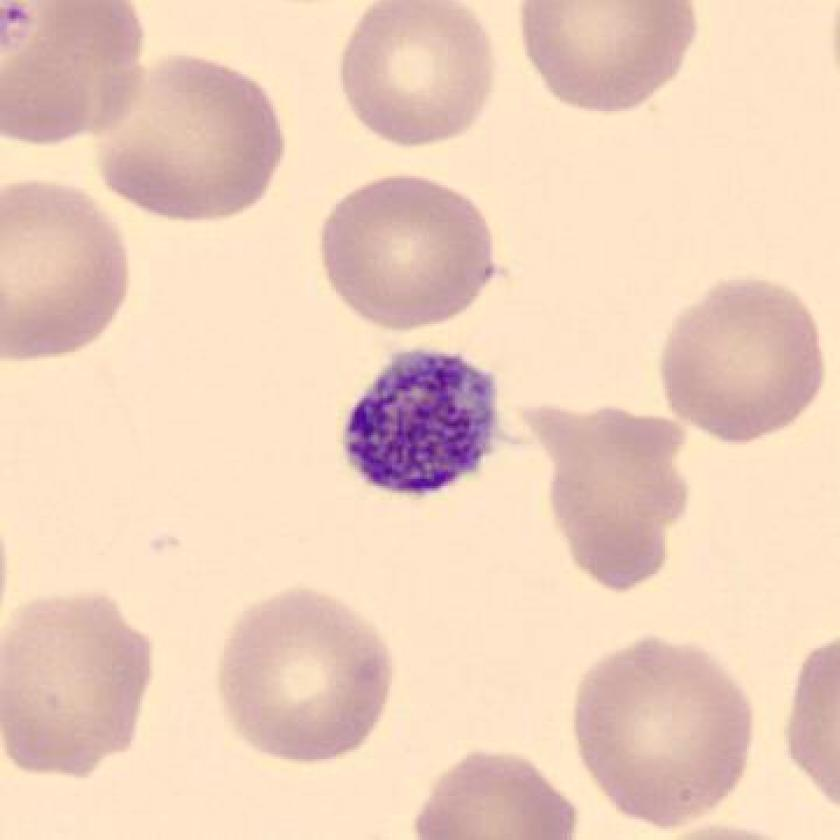platelets: (337, 339, 510, 517)
